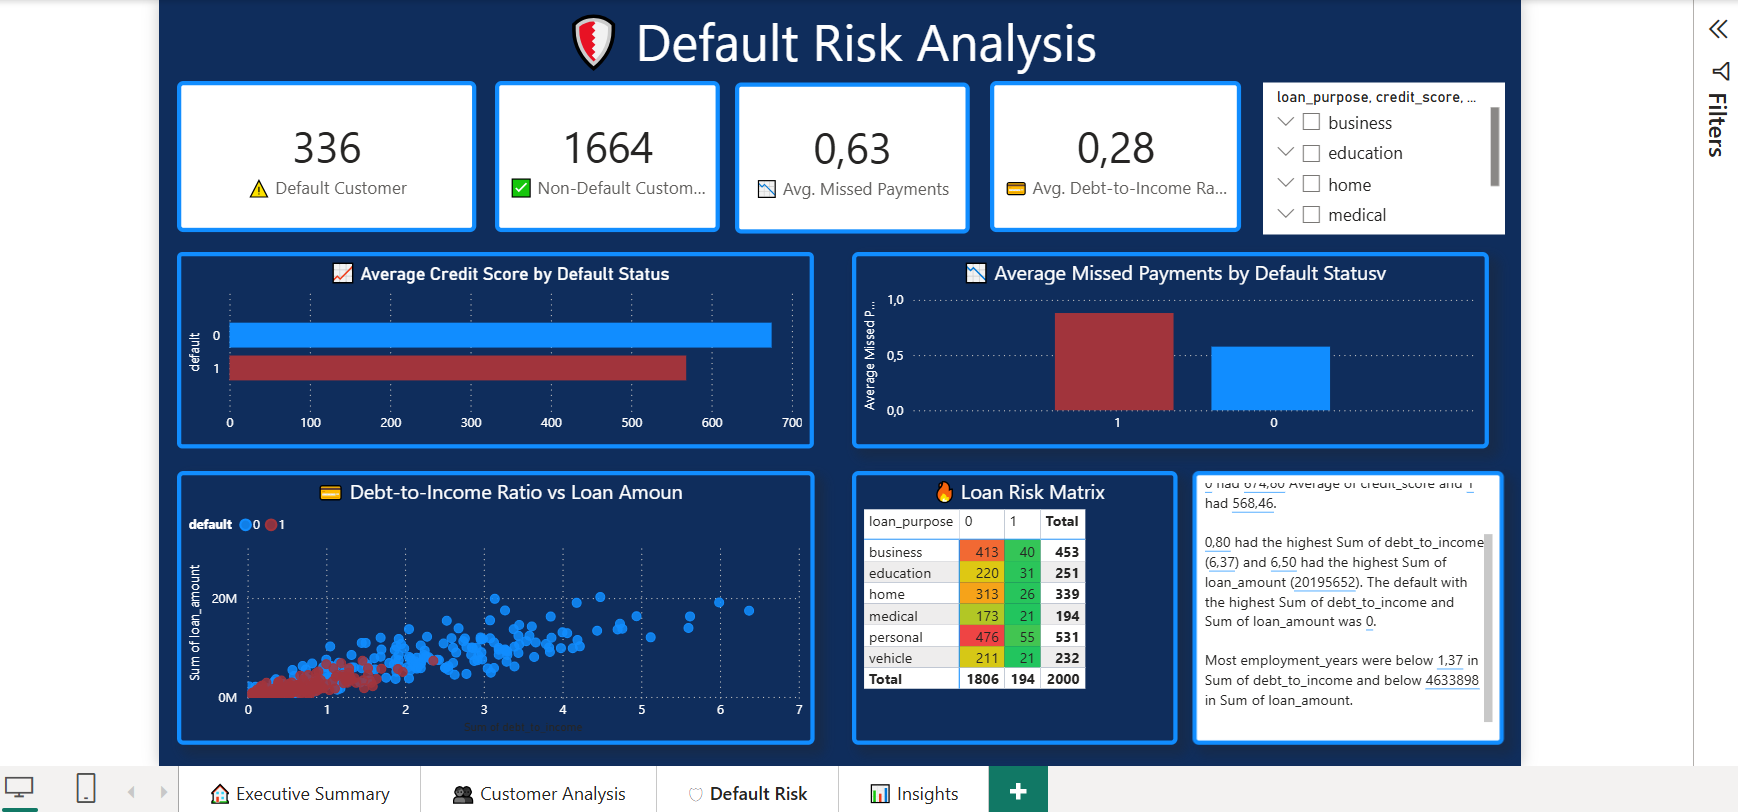

This screenshot's page, from the dashboard's own definition file:
{"tool":"powerbi","page":{"name":"🛡 Default Risk","canvas":[1280,720],"ordinal":2},"visuals":[{"type":"card","fields":{"Values":["loan_data.Default Customers"]},"box":[17.2,76.6,281.3,142.2],"z":0},{"type":"card","fields":{"Values":["loan_data.Non Default Customers"]},"box":[315.7,76.6,211,142.2],"z":1000},{"type":"card","fields":{"Values":["loan_data.Average Missed Payments"]},"box":[540.8,78.1,220.4,142.2],"z":2000},{"type":"card","fields":{"Values":["Avg(loan_data.debt_to_income)"]},"box":[781.5,76.6,236,142.2],"z":3000},{"type":"clusteredBarChart","title":"📈 Average Credit Score by Default Status","fields":{"Category":["loan_data.default"],"Y":["Avg(loan_data.credit_score)"]},"box":[17.2,237.6,598.6,184.4],"z":4000},{"type":"clusteredColumnChart","title":"📉 Average Missed Payments by Default Statusv","fields":{"Category":["loan_data.default"],"Y":["loan_data.Average Missed Payments"]},"box":[651.8,237.6,598.6,184.4],"z":5000},{"type":"scatterChart","title":"💳 Debt-to-Income Ratio vs Loan Amoun","fields":{"X":["Sum(loan_data.debt_to_income)"],"Y":["Sum(loan_data.loan_amount)"],"Series":["loan_data.default"],"Category":["loan_data.employment_years"]},"box":[17,442.2,599.1,257],"z":6000},{"type":"pivotTable","title":"🔥 Loan Risk Matrix","fields":{"Rows":["loan_data.loan_purpose"],"Columns":["loan_data.previous_default"],"Values":["CountNonNull(loan_data.previous_default)"]},"box":[652,442.2,306.1,257],"z":7000},{"type":"slicer","fields":{"Values":["loan_data.loan_purpose","loan_data.credit_score","loan_data.previous_default","loan_data.debt_to_income"]},"box":[1037.5,77.5,226.8,141.7],"z":8000},{"type":"textbox","box":[971.3,442.2,292.9,257],"z":9000},{"type":"textbox","box":[0,0,1264.3,77.5],"z":10000},{"type":"actionButton","box":[17.2,18.8,100,40.6],"z":10001}]}

Visuals, with their boxes on the page's 1280x720 design canvas (x1, y1, x2, y2). These are canvas units, not pixel positions in the 1738x812 screenshot, which may show the page scaled, cropped or inside an application window:
card - loan_data.Default Customers: bbox(17, 77, 298, 219)
card - loan_data.Non Default Customers: bbox(316, 77, 527, 219)
card - loan_data.Average Missed Payments: bbox(541, 78, 761, 220)
card - Avg(loan_data.debt_to_income): bbox(782, 77, 1018, 219)
"📈 Average Credit Score by Default Status" clusteredBarChart: bbox(17, 238, 616, 422)
"📉 Average Missed Payments by Default Statusv" clusteredColumnChart: bbox(652, 238, 1250, 422)
"💳 Debt-to-Income Ratio vs Loan Amoun" scatterChart: bbox(17, 442, 616, 699)
"🔥 Loan Risk Matrix" pivotTable: bbox(652, 442, 958, 699)
slicer - loan_data.loan_purpose x loan_data.credit_score: bbox(1038, 78, 1264, 219)
textbox: bbox(971, 442, 1264, 699)
textbox: bbox(0, 0, 1264, 78)
actionButton: bbox(17, 19, 117, 59)
